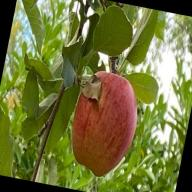Apples: (63, 68, 145, 182)
